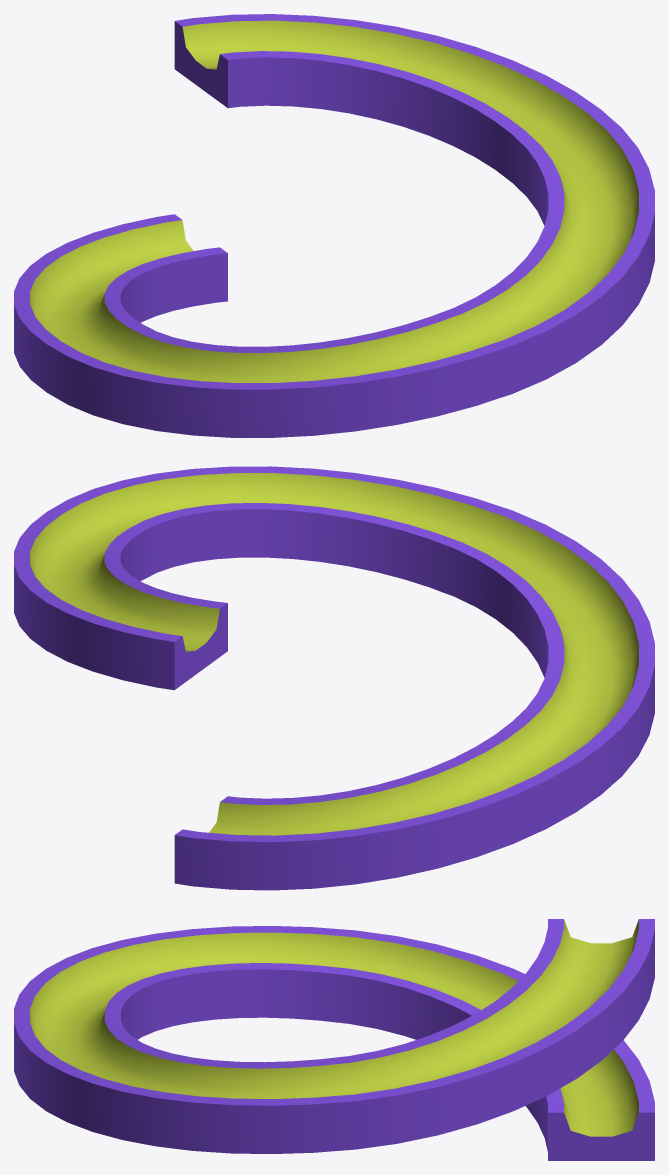
The model's file is helix_large_left-col.dae.
3 renders of one model, top to bottom at view 1: azimuth 30°, elevation 25°; view 2: azimuth 150°, elevation 25°; view 3: azimuth 270°, elevation 25°, orthographic.
Visible parts, largest first — view 1: helix_large_left-col; view 2: helix_large_left-col; view 3: helix_large_left-col.
Boxes of the visible parts, x1,y1,x2,y2 form: helix_large_left-col: (14,14,654,437); helix_large_left-col: (14,466,654,890); helix_large_left-col: (14,919,654,1160).
Size of the model in its own units: 6 by 6 by 2.5.
